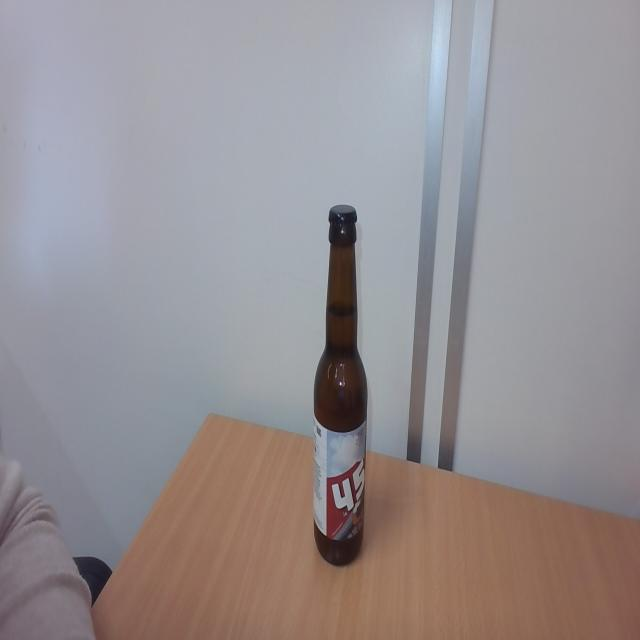Bottle: (313, 227, 367, 567)
Cap: (327, 202, 358, 227)
Label: (314, 420, 366, 538)
